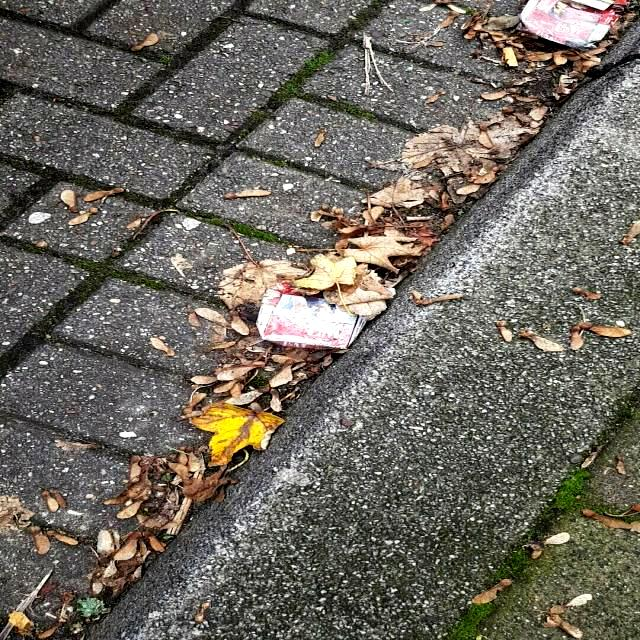Paper: (252, 278, 368, 352)
